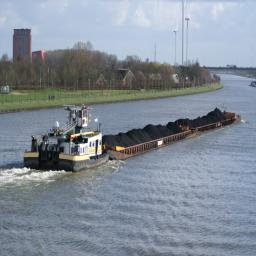tugboat: (24, 104, 111, 176)
